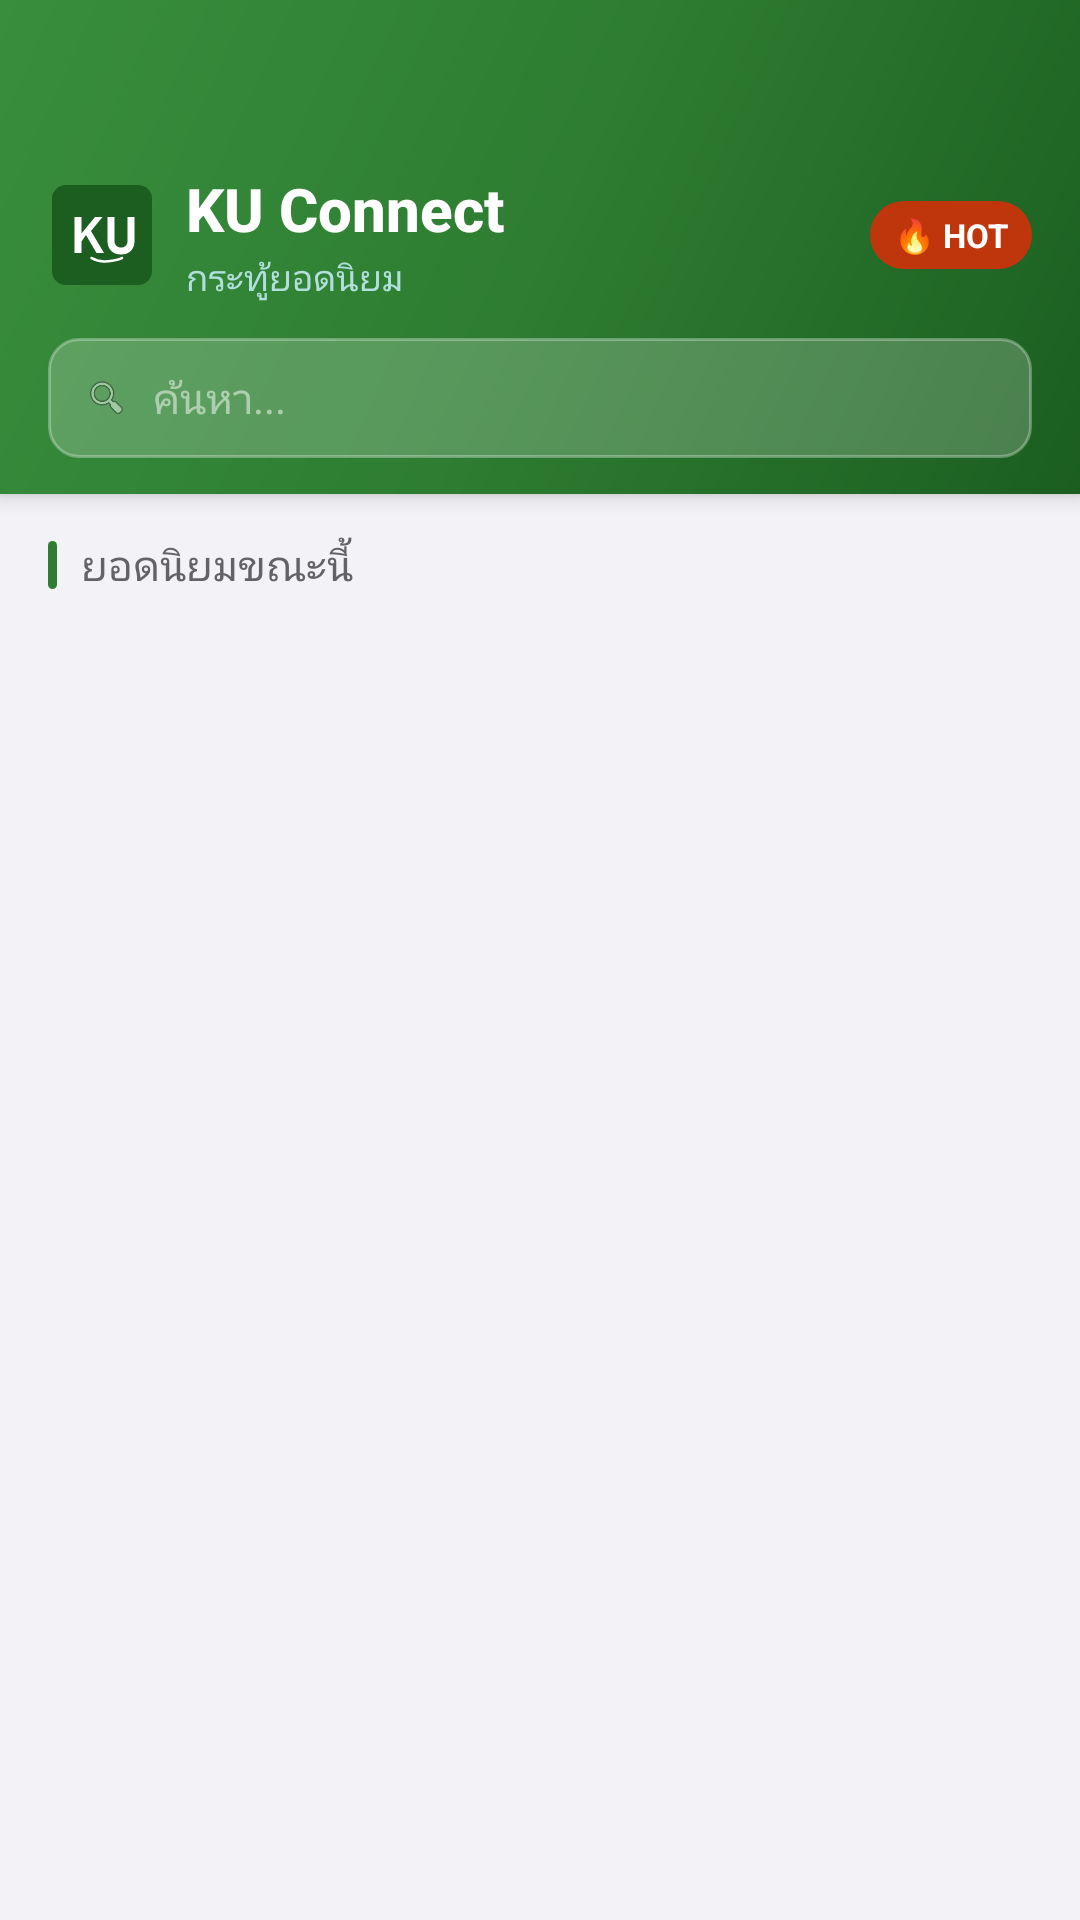

Icons on this 1080px×1920px Android screen, each with the point to tap as [x,y]:
Search: [106,397]
